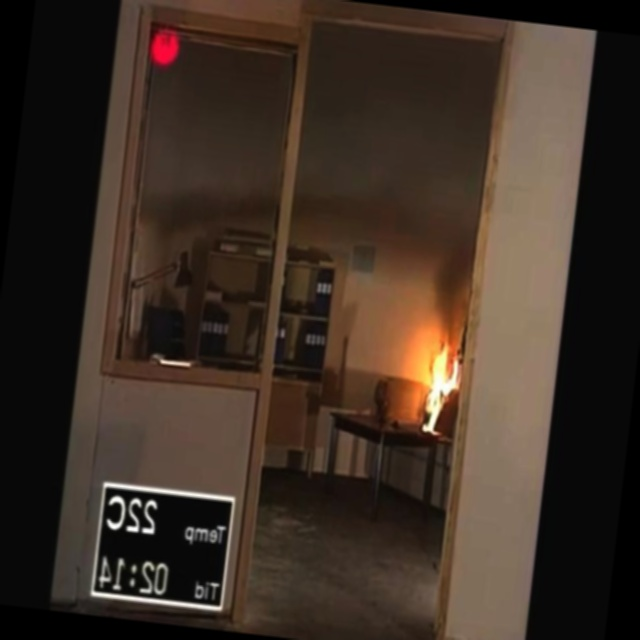fire: (382, 321, 470, 451)
